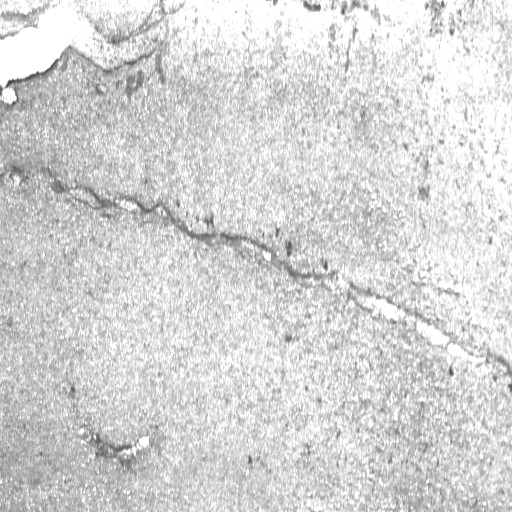aokeng: (1, 1, 173, 107)
hengxiangliewen: (28, 167, 512, 386)
